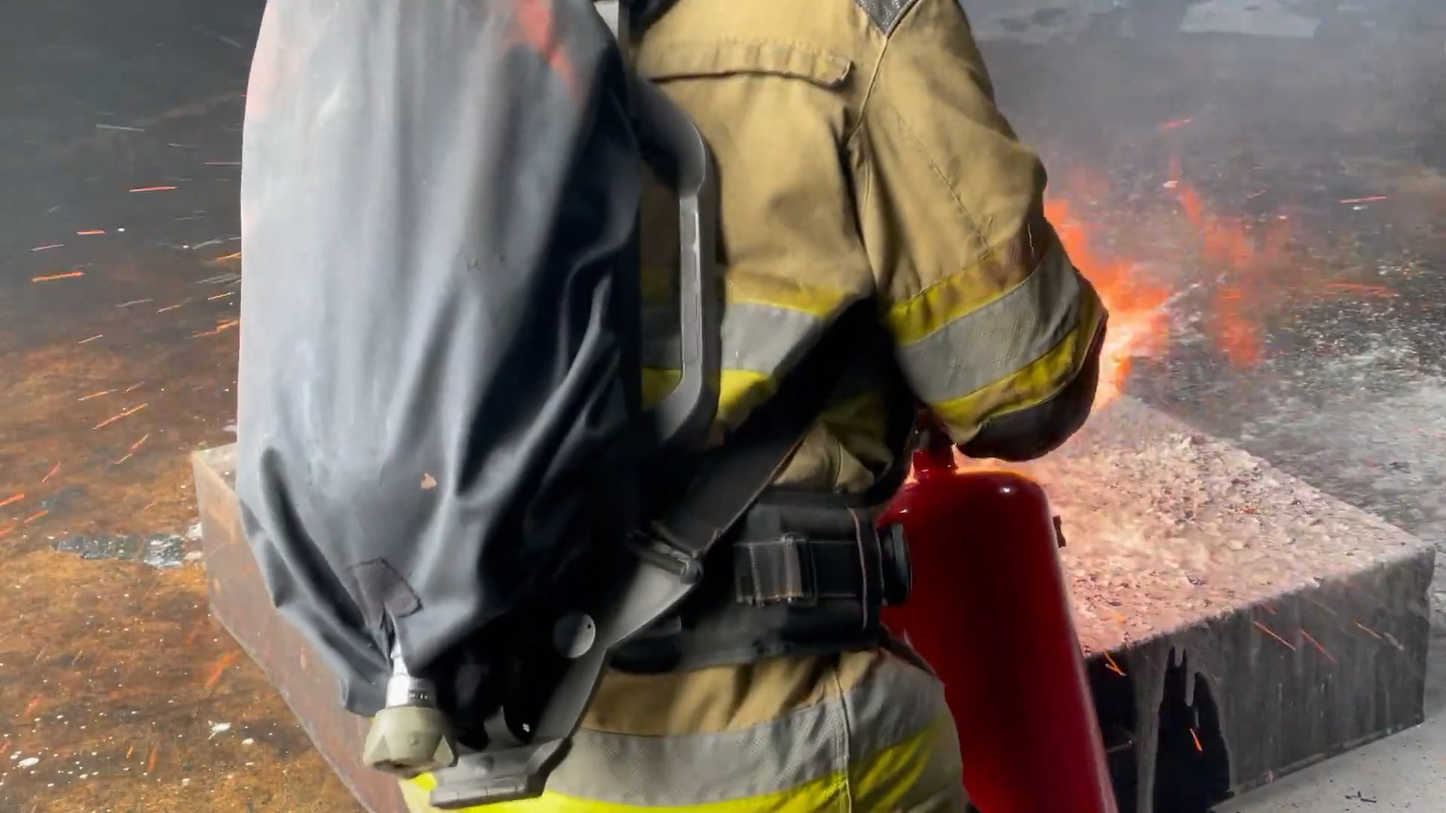fire: (1040, 178, 1219, 441)
